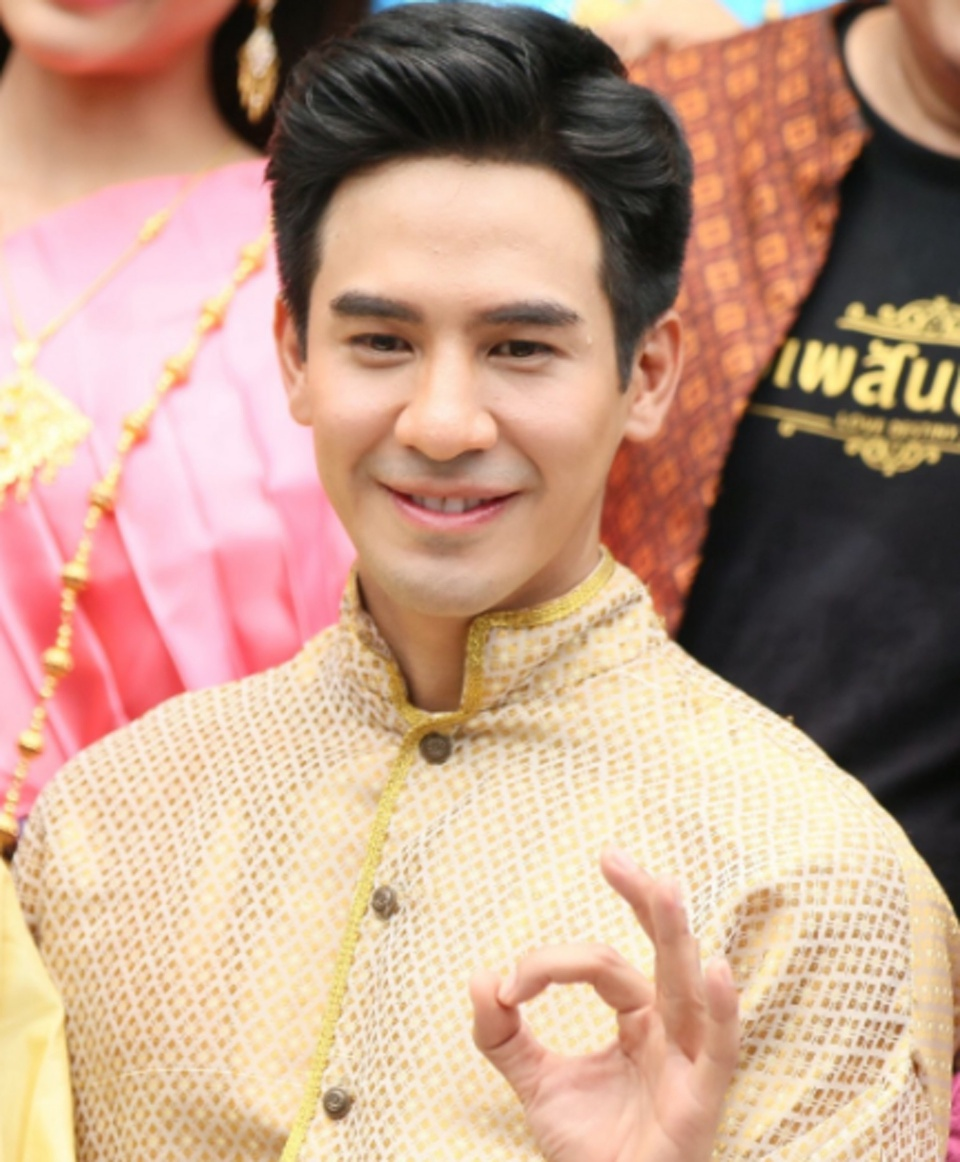male: (221, 5, 708, 635)
